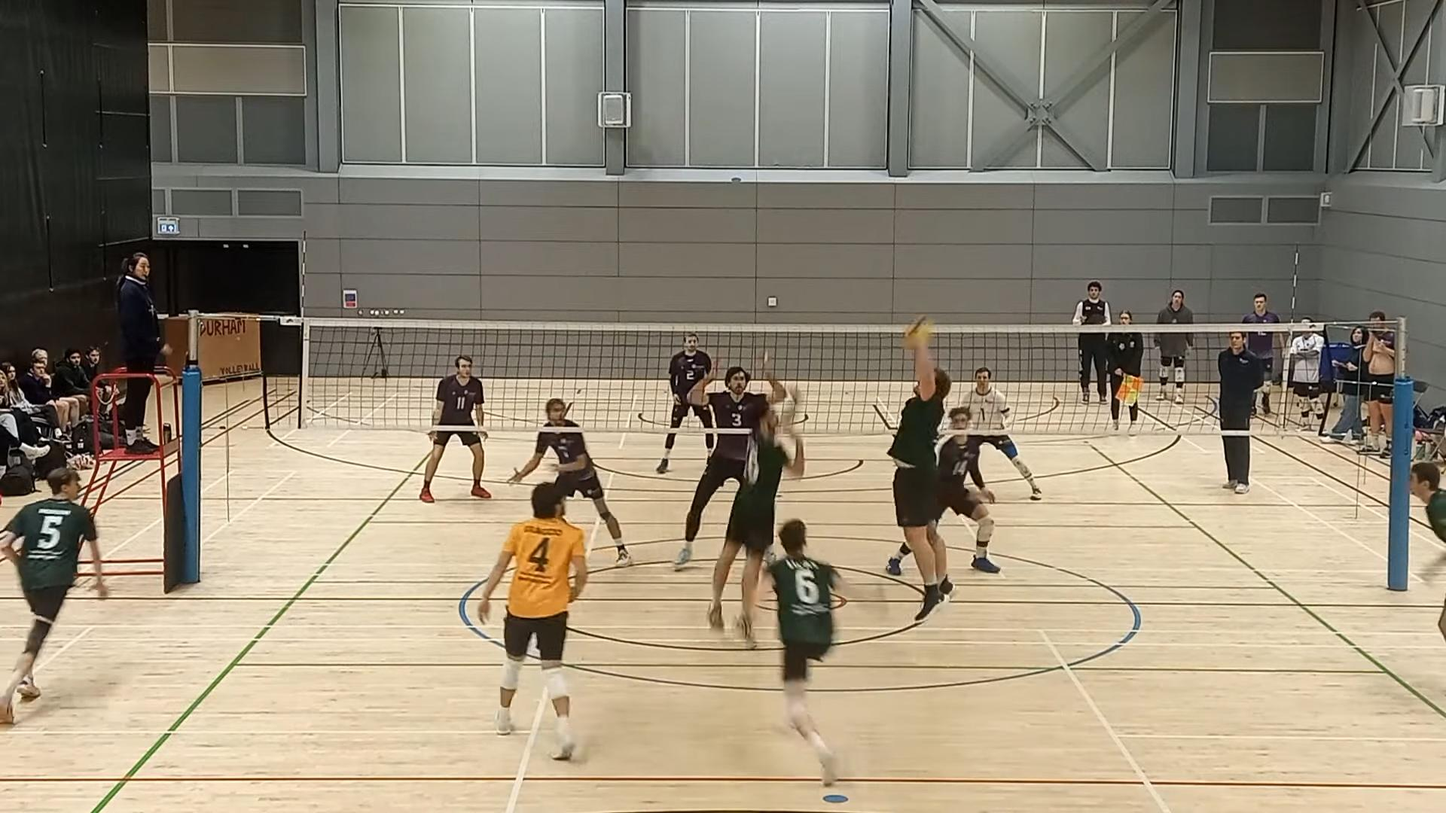Player: (478, 482, 587, 759), (0, 467, 108, 723), (675, 355, 786, 568), (707, 407, 804, 647), (508, 398, 631, 566), (767, 520, 844, 785), (929, 406, 999, 573), (962, 367, 1042, 500), (419, 355, 490, 502), (656, 333, 712, 473), (1409, 461, 1445, 541)
Set: (889, 313, 958, 623)
ball: (905, 315, 931, 346)
